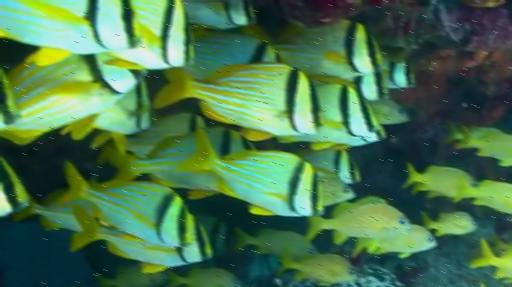Fish: (153, 62, 323, 140), (0, 56, 145, 143), (58, 162, 196, 246), (70, 205, 212, 272), (0, 0, 143, 64), (115, 126, 254, 190), (188, 151, 323, 216), (276, 84, 381, 149), (61, 80, 152, 154), (273, 20, 383, 78), (99, 128, 213, 182), (109, 0, 193, 69), (306, 196, 410, 243), (186, 28, 278, 79), (125, 113, 205, 157), (316, 84, 379, 135), (404, 163, 478, 200), (354, 224, 436, 257), (13, 198, 95, 231), (279, 125, 386, 150), (235, 228, 315, 259), (281, 254, 358, 285), (310, 71, 388, 100), (300, 147, 360, 183), (184, 0, 255, 28), (457, 128, 511, 160), (463, 179, 511, 213), (197, 216, 237, 256), (471, 239, 511, 278), (92, 266, 168, 286), (0, 163, 29, 213), (444, 122, 501, 147), (153, 169, 220, 189), (168, 268, 240, 286), (421, 212, 477, 235), (319, 172, 355, 205), (351, 71, 389, 100), (368, 98, 409, 124), (0, 77, 20, 125), (387, 58, 415, 88), (495, 235, 511, 251), (481, 282, 486, 286)
